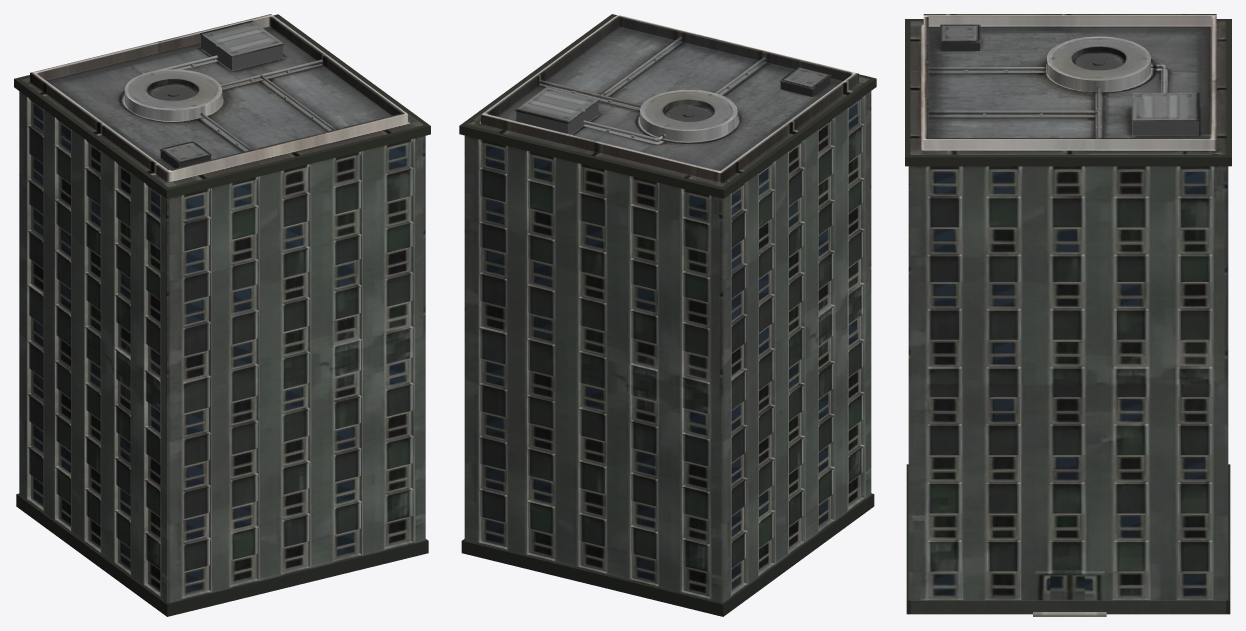
File: city8storyb_cad.glb
The picture shows the model from 3 angles, left to right: view 1: azimuth 30°, elevation 25°; view 2: azimuth 150°, elevation 25°; view 3: azimuth 270°, elevation 25°; orthographic projection. The views are drawn at different scales.
Visible parts, largest first — view 1: CityBlock8Story_A; view 2: CityBlock8Story_A; view 3: CityBlock8Story_A.
Boxes of the visible parts, x1,y1,x2,y2 form: CityBlock8Story_A: (14, 14, 430, 616); CityBlock8Story_A: (459, 14, 876, 616); CityBlock8Story_A: (905, 14, 1231, 616).
Bounding box in the file's own units: 18.61 × 29.35 × 18.36.
1 material, 1 textured.
